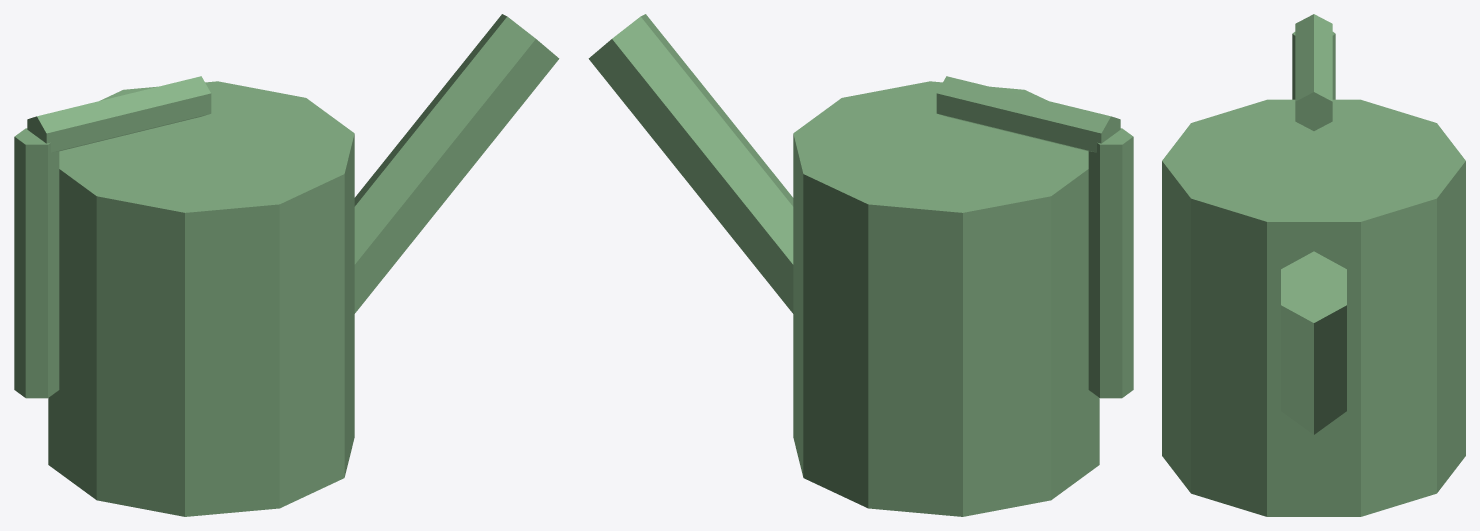
3 renders of one model, left to right at view 1: azimuth 30°, elevation 25°; view 2: azimuth 150°, elevation 25°; view 3: azimuth 270°, elevation 25°, orthographic. The views are drawn at different scales.
Visible parts, largest first — view 1: Can, Spout, Handle, Handle top; view 2: Can, Spout, Handle, Handle top; view 3: Can, Spout, Handle top, Handle.
Part boxes in pixels (x1,y1,x2,y2): Can: (48, 81, 354, 516); Spout: (354, 14, 559, 313); Handle: (14, 128, 59, 398); Handle top: (27, 76, 211, 152); Can: (793, 81, 1099, 516); Spout: (588, 14, 793, 313); Handle: (1088, 128, 1133, 398); Handle top: (936, 76, 1120, 152); Can: (1162, 99, 1465, 516); Spout: (1281, 251, 1346, 434); Handle top: (1295, 14, 1332, 130); Handle: (1292, 32, 1335, 99).
Bounding box in the file's own units: 55.15 × 37 × 28.
